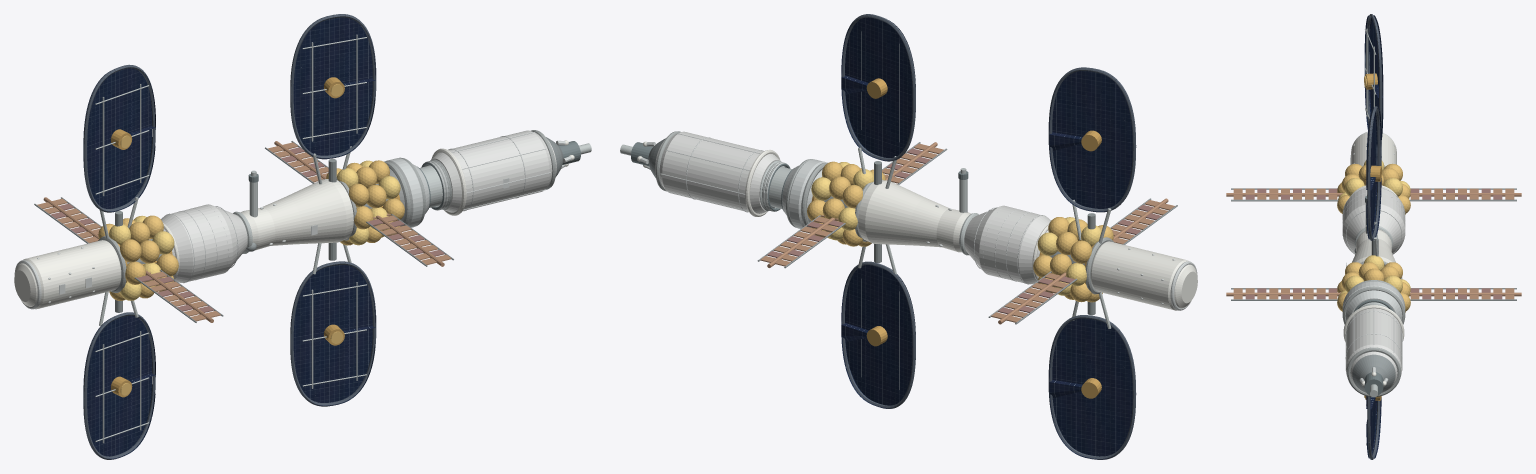
Rendered from spacecraft_3d.glb.
3 views of the same model, side by side, from view 1: azimuth 30°, elevation 25°; view 2: azimuth 150°, elevation 25°; view 3: azimuth 270°, elevation 25° (orthographic). The views are drawn at different scales.
Parts seen in each view (by area): view 1: Solar panel 2 upper, Solar panel 2 lower, Solar panel 1 lower, Solar panel 1 upper, Long forward module, Main tapered bridge, Left service module, Middle bulb module, Forward dock connector, Forward docking throat; view 2: Solar panel 1 upper, Solar panel 1 lower, Solar panel 2 lower, Solar panel 2 upper, Long forward module, Main tapered bridge, Left service module, Middle bulb module, Forward dock connector, Forward docking throat; view 3: Long forward module, Middle bulb module, Solar panel 2 upper, Forward dock connector, Solar panel 1 upper, Front dark cone, Left service module, Main tapered bridge, Long module nose ring, Solar panel 2 lower, Dock ring 1, Cross array spine 1-1 (+6 smaller).
Part boxes in pixels (x1,y1,x2,y2): Solar panel 2 upper: (293, 17, 375, 158); Solar panel 2 lower: (293, 265, 375, 405); Solar panel 1 lower: (83, 315, 155, 459); Solar panel 1 upper: (83, 68, 155, 211); Long forward module: (431, 130, 556, 212); Main tapered bridge: (240, 179, 353, 250); Left service module: (14, 240, 121, 309); Middle bulb module: (161, 204, 247, 282); Forward dock connector: (385, 158, 429, 227); Forward docking throat: (420, 159, 451, 209); Solar panel 1 upper: (1049, 71, 1132, 211); Solar panel 1 lower: (1049, 318, 1132, 459); Solar panel 2 lower: (841, 265, 915, 408); Solar panel 2 upper: (841, 17, 915, 160); Long forward module: (655, 131, 780, 213); Main tapered bridge: (858, 180, 970, 252); Left service module: (1090, 241, 1197, 310); Middle bulb module: (964, 205, 1051, 284); Forward dock connector: (782, 159, 825, 228); Forward docking throat: (760, 160, 791, 210); Long forward module: (1346, 308, 1401, 393); Middle bulb module: (1342, 188, 1405, 254); Solar panel 2 upper: (1366, 107, 1381, 239); Forward dock connector: (1342, 281, 1405, 320); Solar panel 1 upper: (1364, 15, 1383, 139); Front dark cone: (1352, 354, 1395, 392); Left service module: (1351, 132, 1396, 165); Main tapered bridge: (1352, 229, 1402, 279); Long module nose ring: (1346, 347, 1401, 396); Solar panel 2 lower: (1366, 396, 1381, 458); Dock ring 1: (1342, 286, 1405, 324); Cross array spine 1-1: (1226, 292, 1340, 296).
Size of the model in its own units: 14.92 by 9.81 by 7.6.
14 materials, 1 textured.
